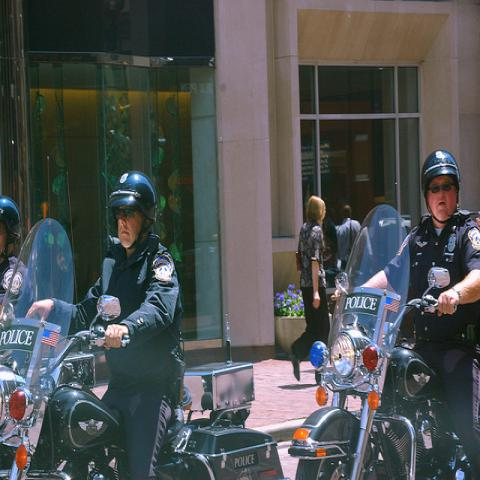motorcycle: (1, 220, 284, 475), (291, 205, 469, 473)
